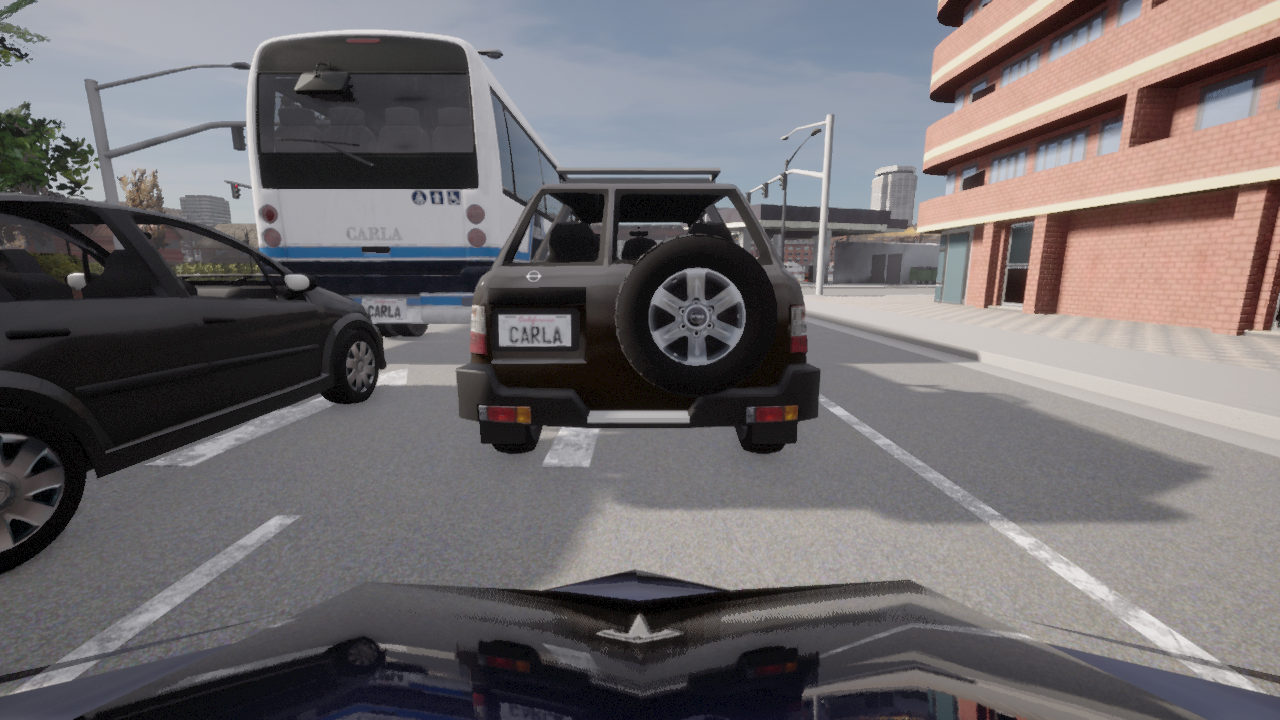cyclist: (0, 569, 1279, 719), (456, 168, 820, 453), (246, 29, 568, 336)
